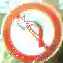Don't turn left: (1, 2, 61, 61)
